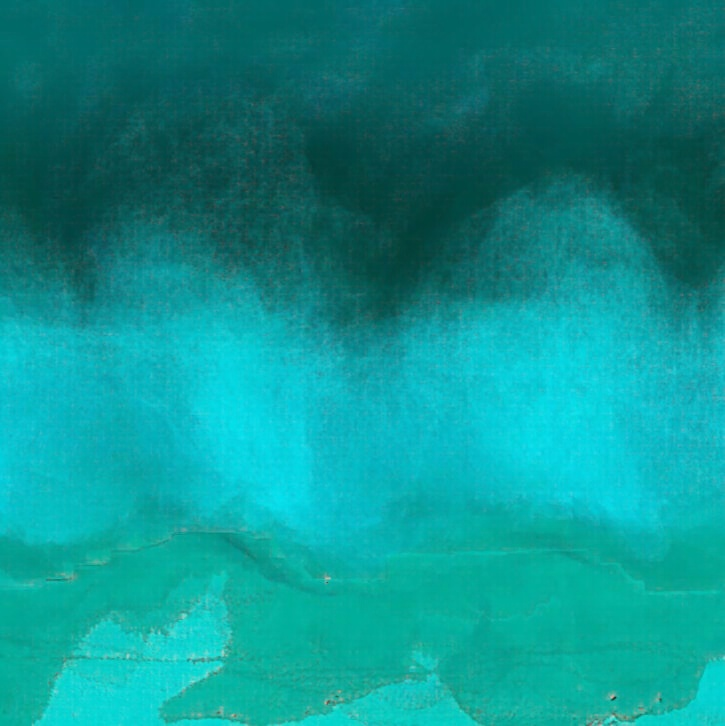rip_current: (225, 132, 492, 487)
